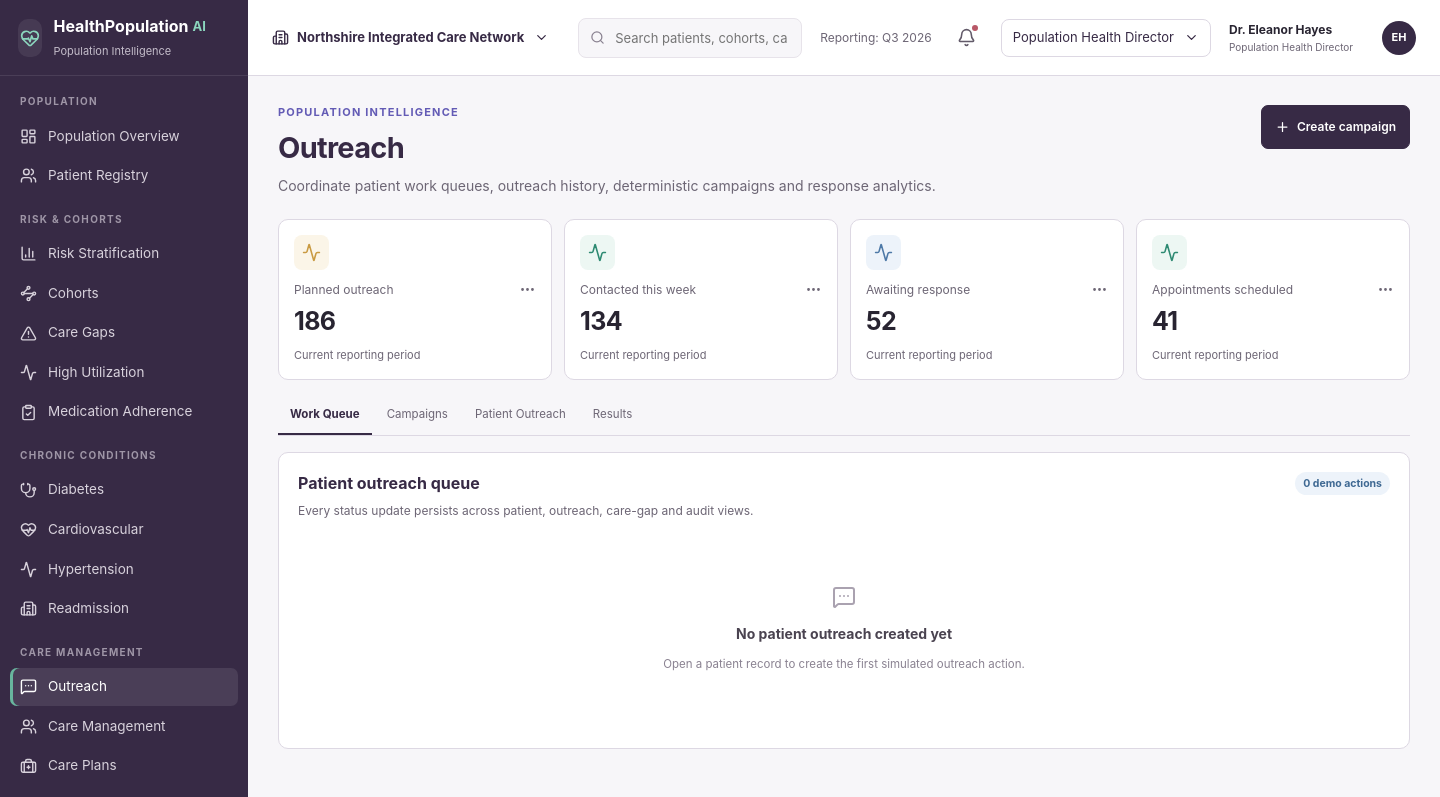
Test: route-level product QA › opens campaign builder and validates a non-empty audience
The image size is (1440, 797).
Click the button "Create campaign" at (1336, 127), box [1261, 105, 1410, 149]
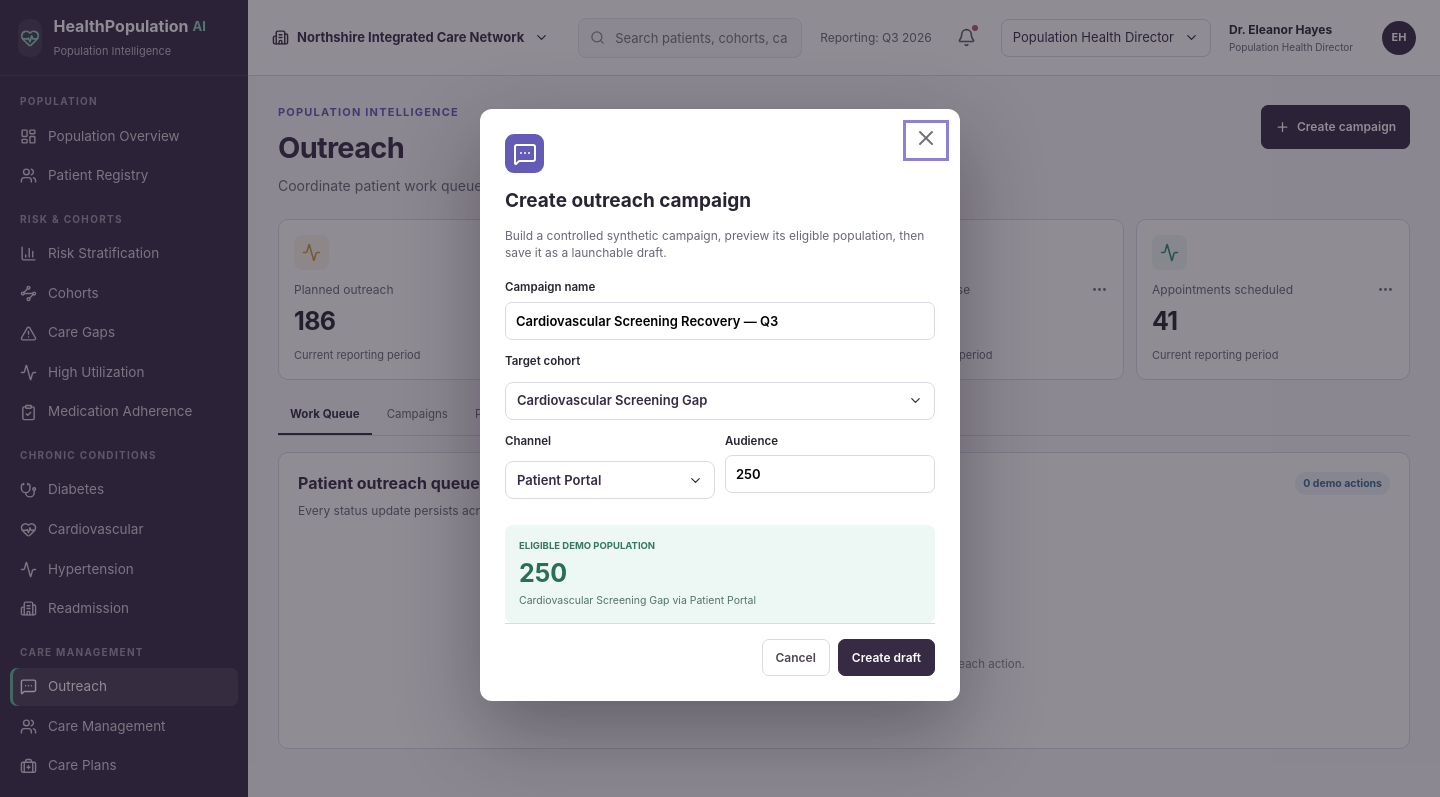
Check: the dialog "Create outreach campaign" is shown, box [480, 109, 960, 701]
Replace the text in the number field labelled "Audience" with "0" at (830, 474), box [725, 455, 935, 493]
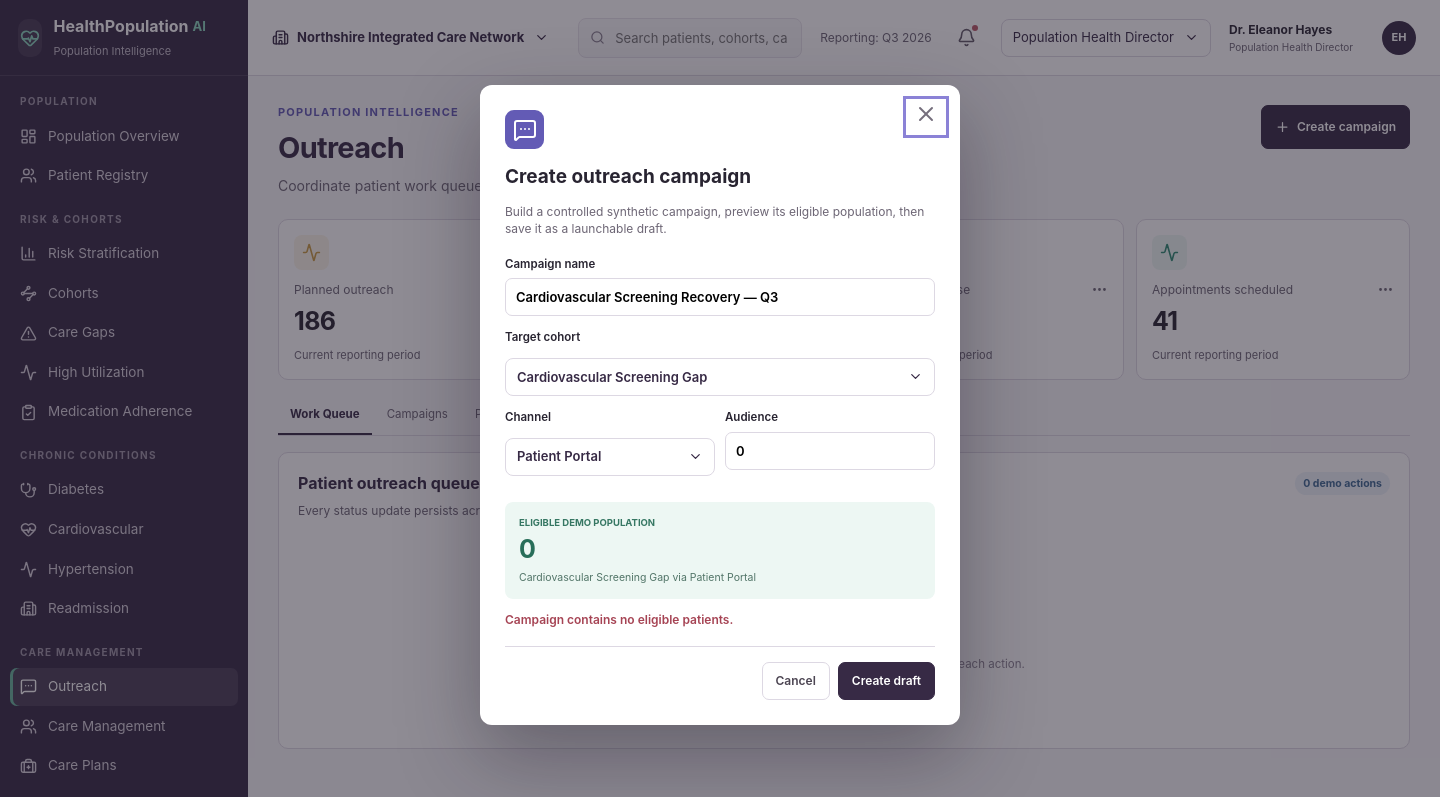
Check: the message shows "no eligible patients", box [505, 612, 733, 627]
Check: the button "Create draft" is disabled, box [838, 662, 935, 700]
